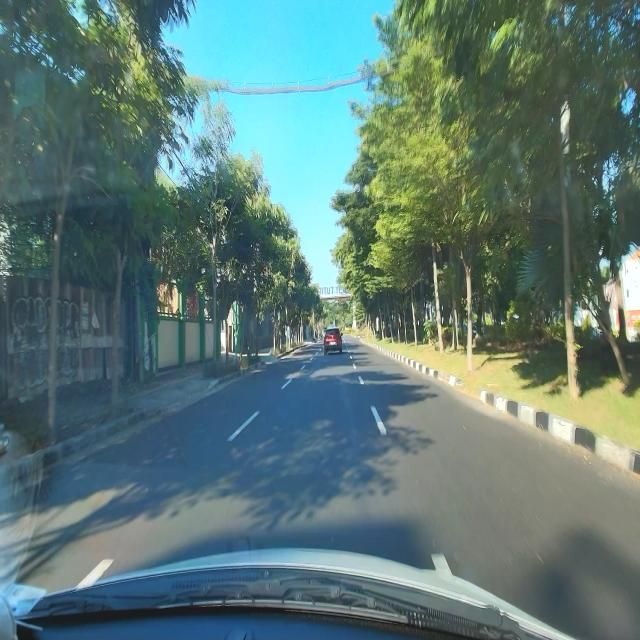car: (323, 326, 344, 357)
